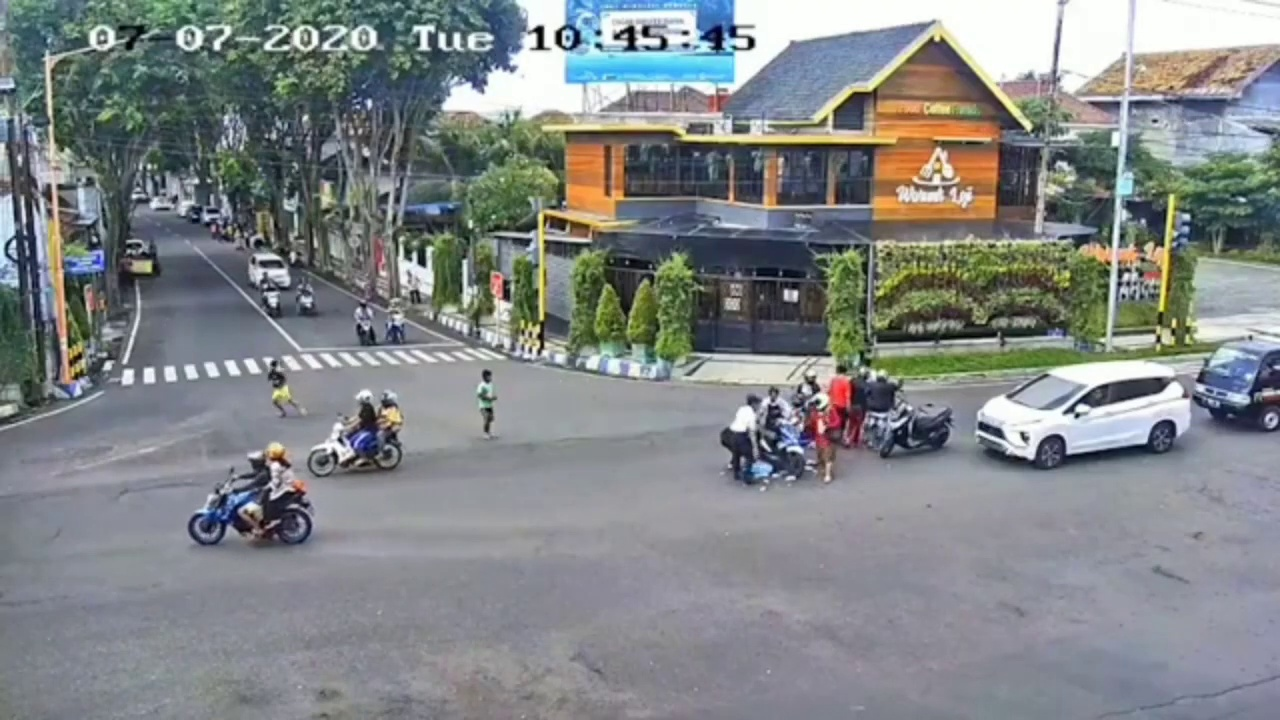car: (978, 362, 1190, 464), (1191, 326, 1280, 426), (246, 253, 293, 290)
motorbike: (192, 444, 318, 546), (316, 392, 409, 482), (355, 299, 378, 349), (388, 295, 408, 345), (260, 275, 281, 315), (297, 279, 316, 319)
